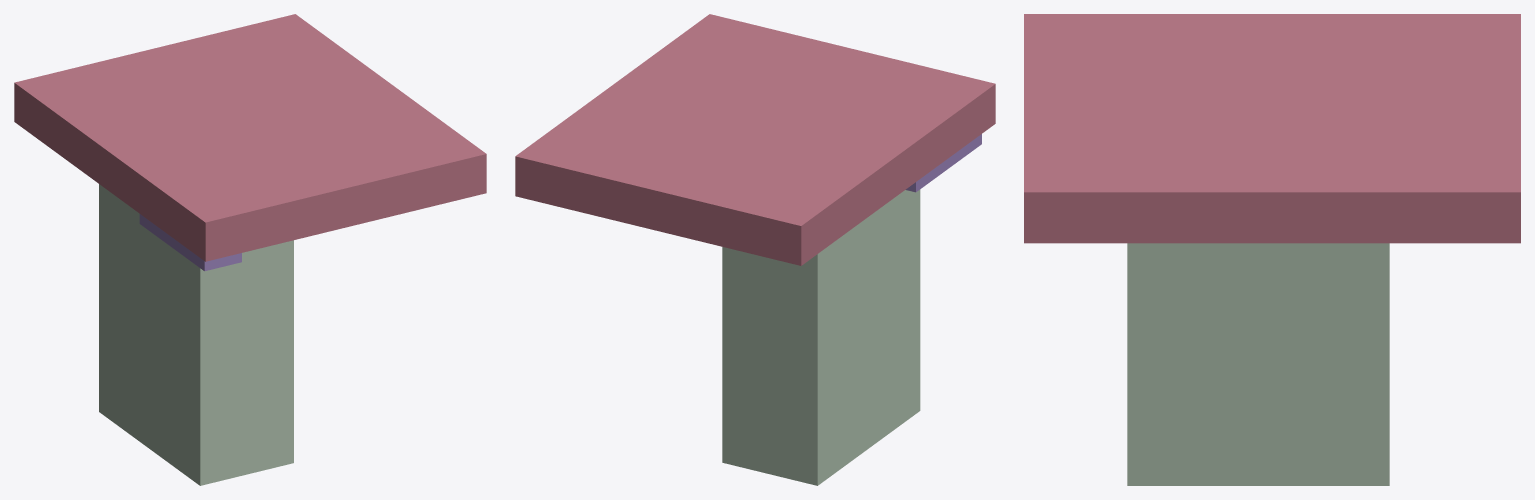
The model's file is 199509_pred.glb.
3 views of the same model, side by side, from view 1: azimuth 30°, elevation 25°; view 2: azimuth 150°, elevation 25°; view 3: azimuth 270°, elevation 25° (orthographic). The views are drawn at different scales.
Visible parts, largest first — view 1: world; view 2: world; view 3: world.
Part boxes in pixels (left/top/right/bottom): world: left=14, top=14, right=486, bottom=485; world: left=515, top=14, right=995, bottom=485; world: left=1024, top=14, right=1520, bottom=485.
Bounding box in the file's own units: 4.5 × 4.6 × 5.3.
